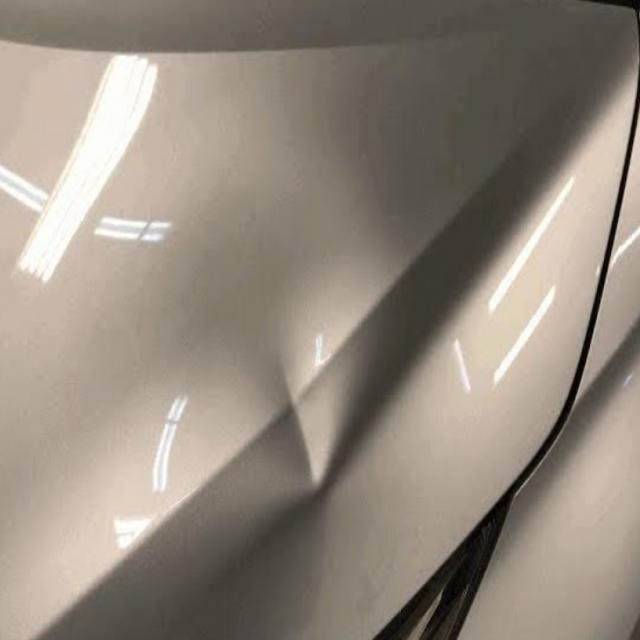dents: (266, 338, 348, 518)
